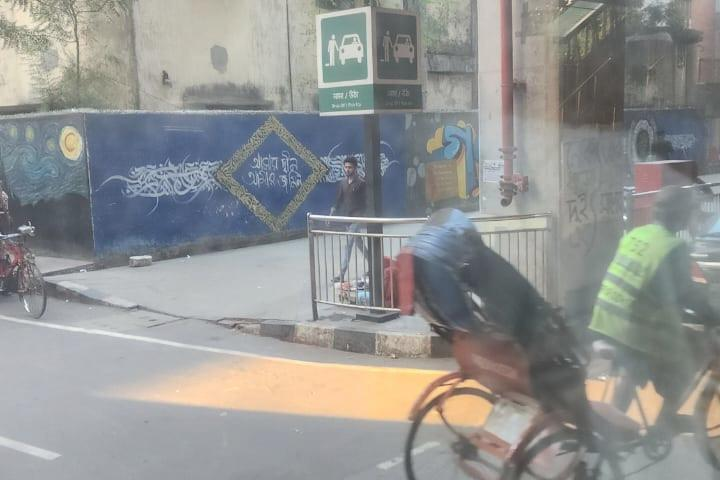Metro Dorp Up Pick up: (314, 5, 423, 116)
